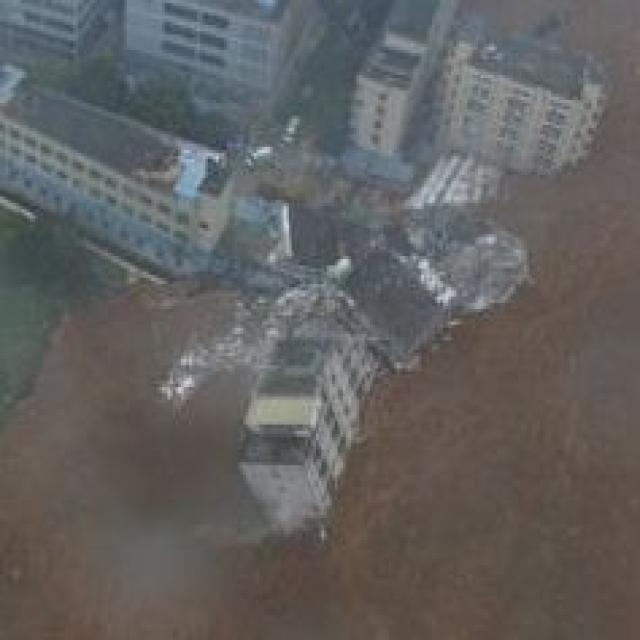collapsed_building: (240, 147, 359, 521)
